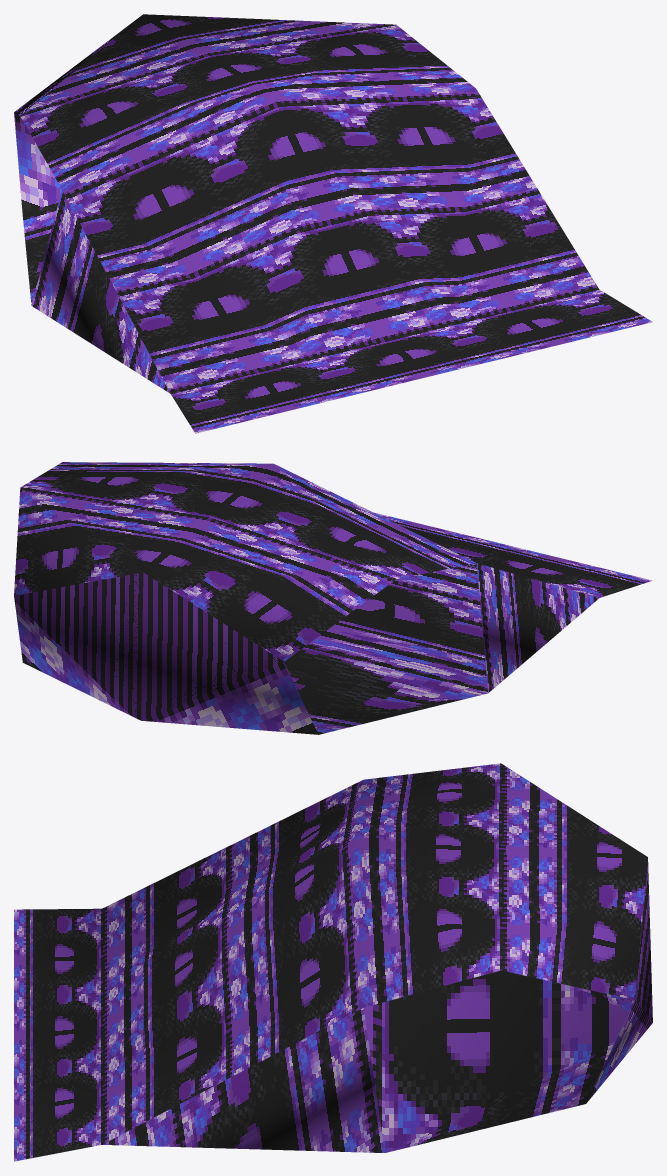
File: 2568top000_c.gltf
The picture shows the model from 3 angles, top to bottom: view 1: azimuth 30°, elevation 25°; view 2: azimuth 150°, elevation 25°; view 3: azimuth 270°, elevation 25°; orthographic projection. The views are drawn at different scales.
Visible parts, largest first — view 1: 2568top000_c; view 2: 2568top000_c; view 3: 2568top000_c.
Part boxes in pixels (x1,y1,x2,y2): 2568top000_c: (14, 14, 652, 433); 2568top000_c: (14, 462, 652, 734); 2568top000_c: (14, 763, 652, 1161).
Bounding box in the file's own units: 0.7598 × 0.2717 × 0.814.
1 material, 1 textured.
